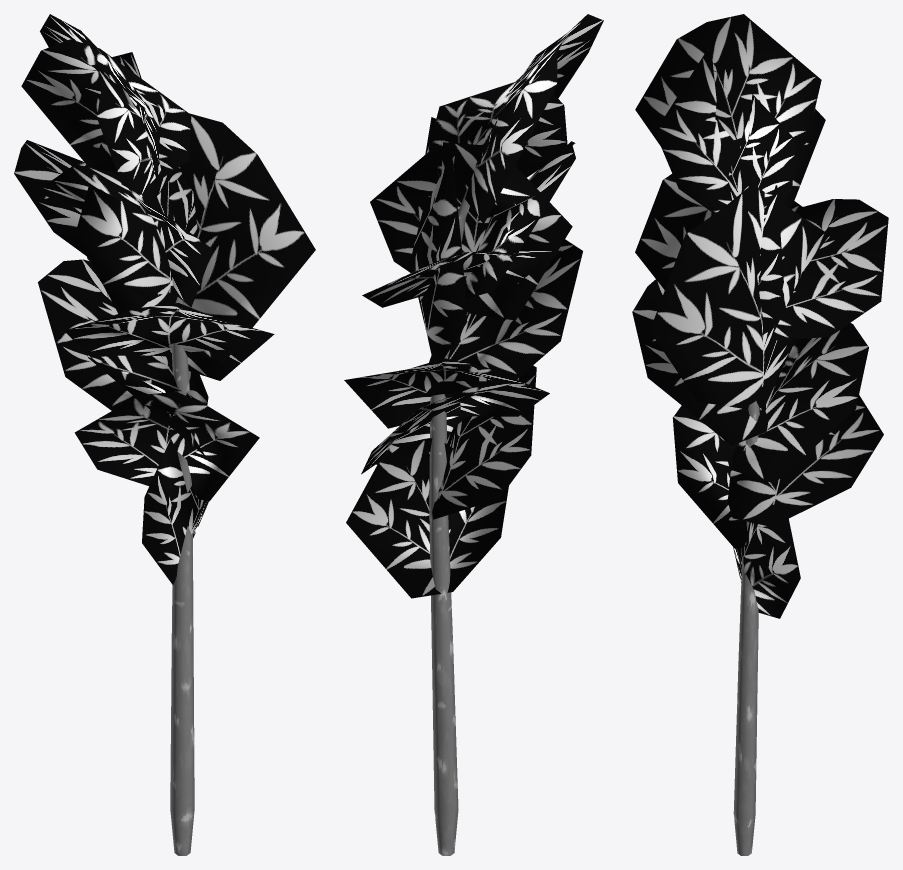
Rendered from P_BambooSapling3.obj.
The picture shows the model from 3 angles, left to right: view 1: azimuth 30°, elevation 25°; view 2: azimuth 150°, elevation 25°; view 3: azimuth 270°, elevation 25°; orthographic projection. The views are drawn at different scales.
Size of the model in its own units: 2.31 by 9 by 2.68.
